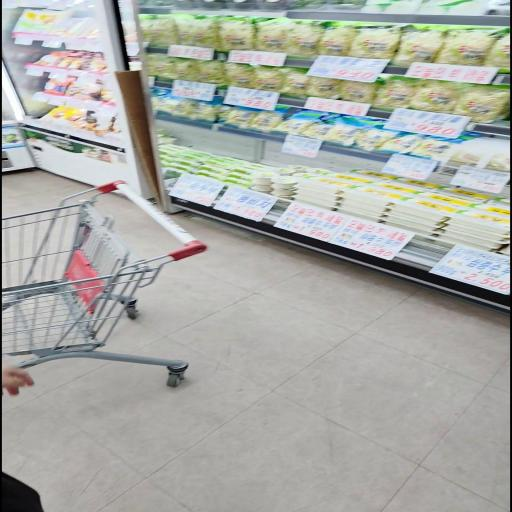empty_cart: (0, 179, 205, 389)
